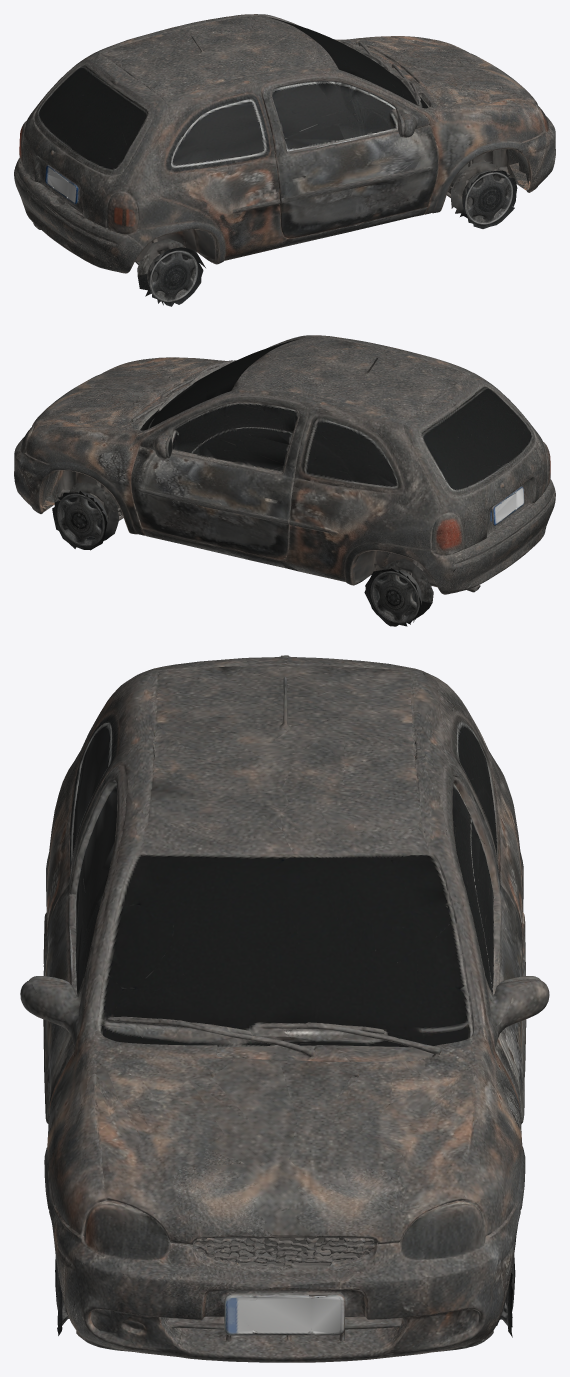
The model's file is caipora-queimado__01a16dcf.glb.
The picture shows the model from 3 angles, top to bottom: view 1: azimuth 30°, elevation 25°; view 2: azimuth 150°, elevation 25°; view 3: azimuth 270°, elevation 25°; orthographic projection. The views are drawn at different scales.
Parts seen in each view (by area): view 1: caipora-queimado; view 2: caipora-queimado; view 3: caipora-queimado.
Boxes of the visible parts, left/top/right/bottom form: caipora-queimado: left=14, top=14, right=555, bottom=306; caipora-queimado: left=14, top=335, right=555, bottom=626; caipora-queimado: left=20, top=655, right=549, bottom=1362.
Bounding box in the file's own units: 3.73 × 1.6 × 1.81.
1 material, 1 textured.
